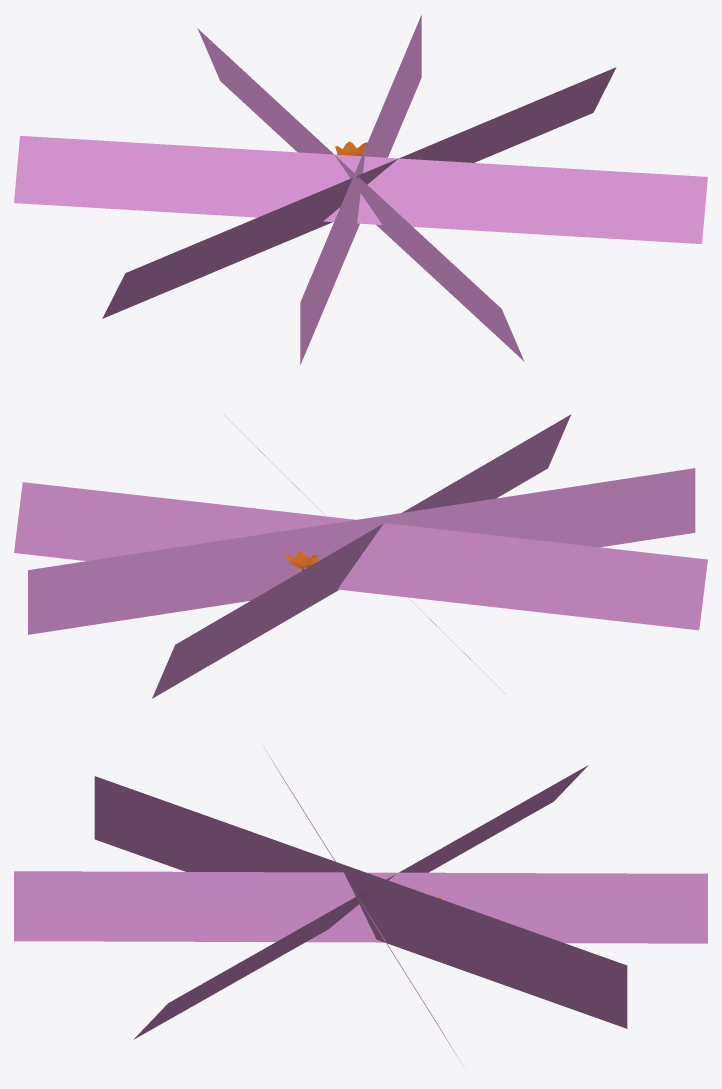
Rendered from Grass Blade (2) 1  Low Grass.fbx.
3 renders of one model, top to bottom at view 1: azimuth 30°, elevation 25°; view 2: azimuth 150°, elevation 25°; view 3: azimuth 270°, elevation 25°, orthographic. The views are drawn at different scales.
Visible parts, largest first — view 1: Quad (5), Quad (2), Quad (4), Quad (3); view 2: Quad (2), Quad (3), Quad (4); view 3: Quad (4), Quad (3), Quad (5).
Boxes of the visible parts, box(x1,y1,x2,y2) form: Quad (5): box(14, 136, 707, 243); Quad (2): box(102, 67, 616, 318); Quad (4): box(197, 28, 524, 361); Quad (3): box(300, 15, 421, 364); Quad (2): box(14, 482, 707, 630); Quad (3): box(28, 468, 695, 634); Quad (4): box(152, 414, 571, 698); Quad (4): box(14, 871, 707, 943); Quad (3): box(94, 776, 627, 1028); Quad (5): box(133, 765, 588, 1039).
Size of the model in its own units: 13.77 by 1.71 by 14.03.
